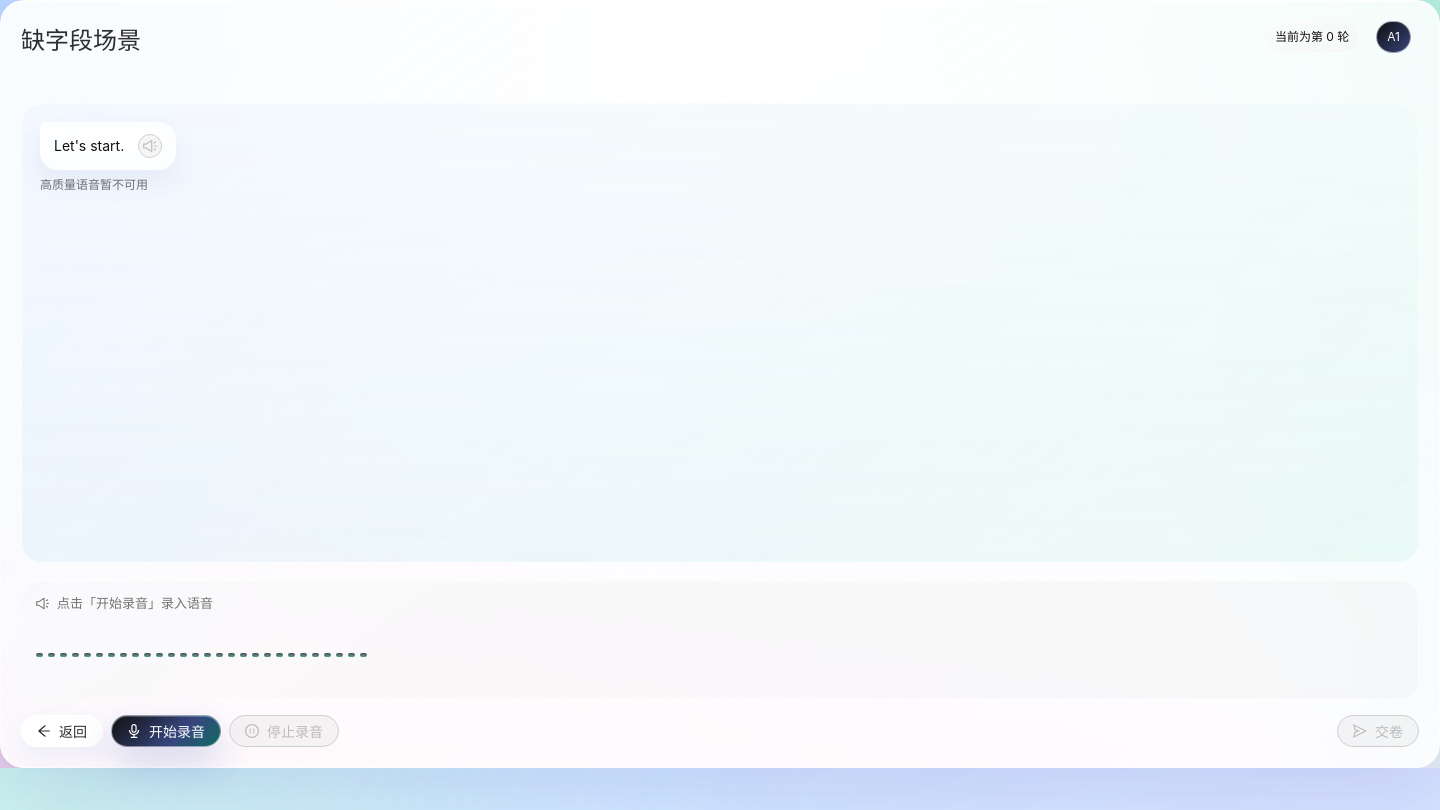
Test: speaking exceptional states › starts a session even when prompt scripts are missing
This screenshot has width=1440, height=810.
Expected: the text "Let's start." is shown, [54,135,124,157]
Expected: the button "交卷" is disabled, [1337,714,1419,746]
Click the button "开始录音" at (166,730), box [111,714,221,746]
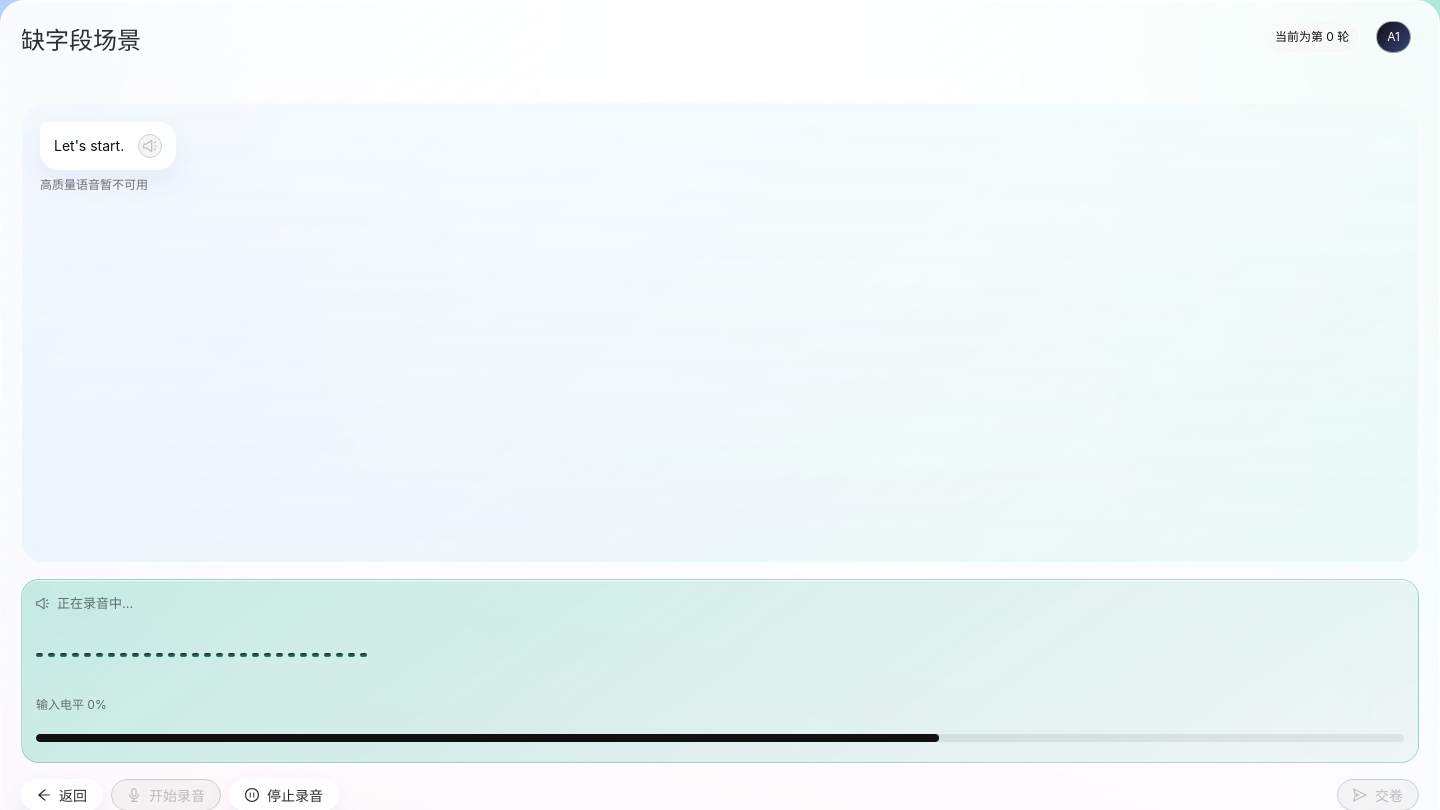
Now the text "正在录音中..." is shown, box [57,594,133,614]
